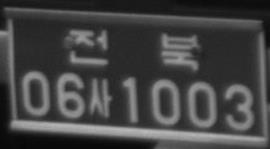0: (20, 69, 51, 118), (150, 77, 181, 126), (187, 80, 218, 129)
1: (118, 75, 143, 123)
3: (224, 82, 254, 132)
6: (55, 71, 86, 119)
사: (87, 77, 113, 118)
전북_D: (67, 27, 200, 72)
